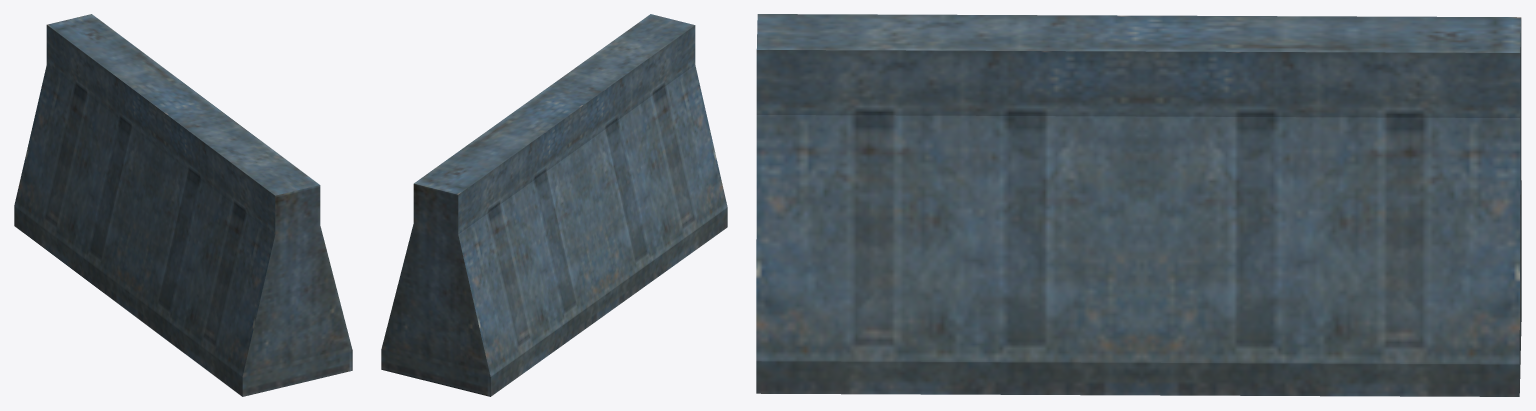
Rendered from xiaowupin02.fbx.
3 views of the same model, side by side, from view 1: azimuth 30°, elevation 25°; view 2: azimuth 150°, elevation 25°; view 3: azimuth 270°, elevation 25° (orthographic). The views are drawn at different scales.
Visible parts, largest first — view 1: Barrier44; view 2: Barrier44; view 3: Barrier44.
Boxes of the visible parts, box(x1,y1,x2,y2) form: Barrier44: box(14, 14, 352, 396); Barrier44: box(381, 14, 727, 396); Barrier44: box(756, 14, 1521, 396).
Bounding box in the file's own units: 58.01 × 94.46 × 206.
1 material, 1 textured.
